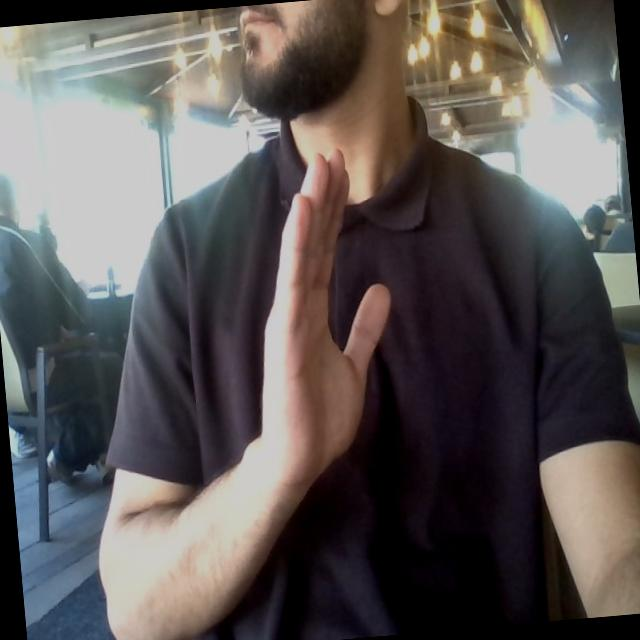Hand: (259, 150, 389, 487)
